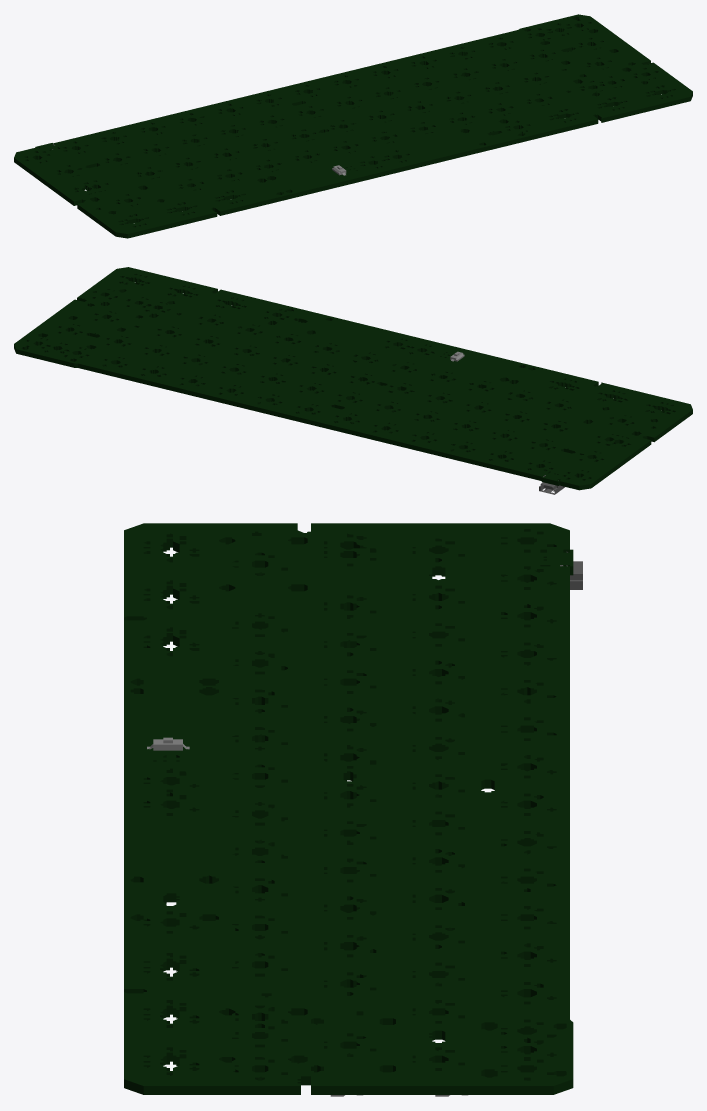
File: hannah60.glb
3 views of the same model, one above another, from view 1: azimuth 30°, elevation 25°; view 2: azimuth 150°, elevation 25°; view 3: azimuth 270°, elevation 25° (orthographic). The views are drawn at different scales.
Parts seen in each view (by area): view 1: hannah60; view 2: hannah60; view 3: hannah60.
Part boxes in pixels (x1,y1,x2,y2): hannah60: (14, 14, 692, 238); hannah60: (14, 267, 692, 494); hannah60: (124, 523, 582, 1096).
Bounding box in the file's own units: 284 × 8.4 × 98.
